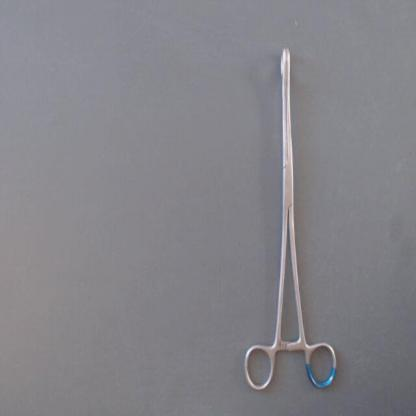Sponge Forceps: (240, 37, 342, 398)
